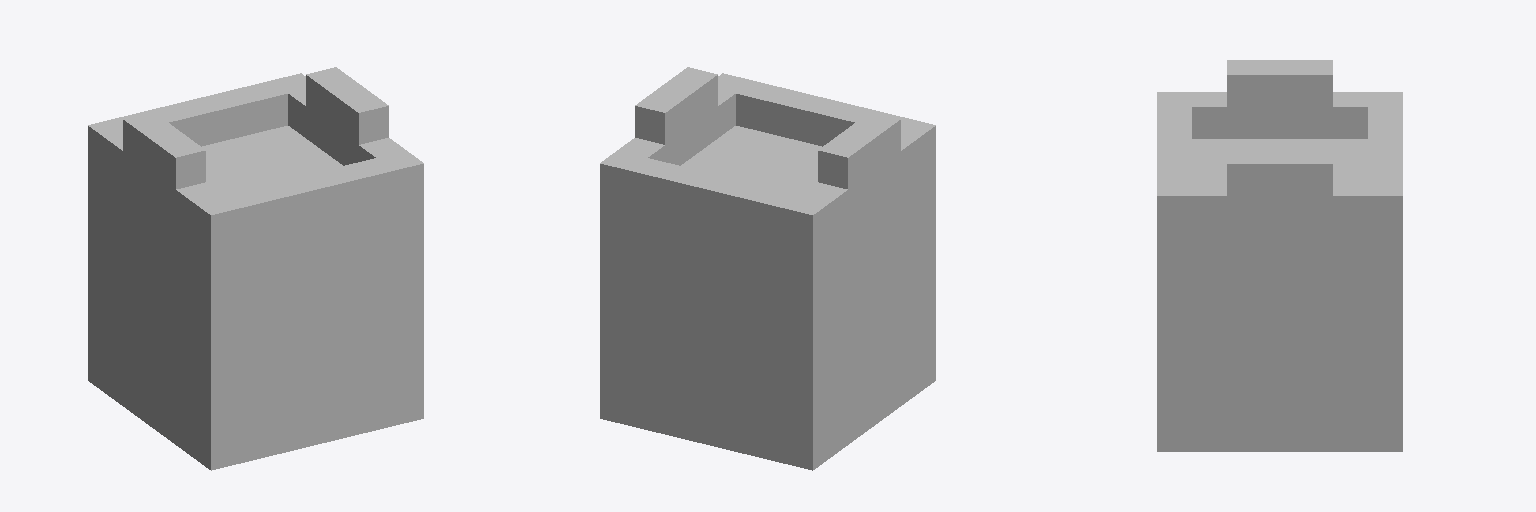
Rendered from bucket _full.obj.
3 renders of one model, left to right at view 1: azimuth 30°, elevation 25°; view 2: azimuth 150°, elevation 25°; view 3: azimuth 270°, elevation 25°, orthographic.
Size of the model in its own units: 7 by 9 by 7.